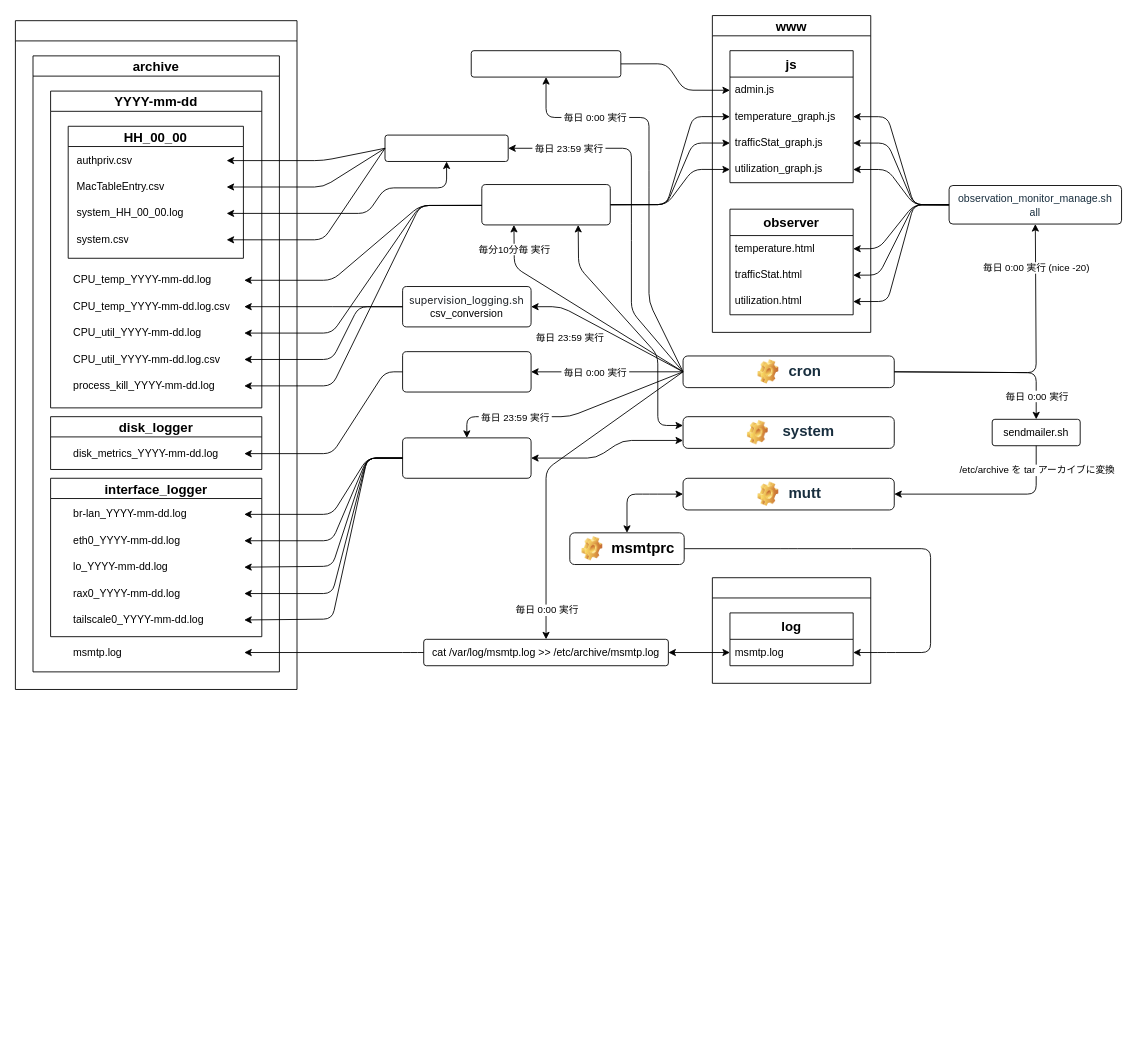
This 1137x1039 diagram has some shape labels left out. Here are the shapes that lost their labels. From the top down, the centre of each, then its label:
At point 545,63: "internal_website_manage.sh".
At point 446,147: "systemlog_convert.sh".
At point 545,204: "supervision_logging.sh cpu_logger".
At point 156,354: "etc".
At point 466,371: "supervision_logging.sh disk _logger".
At point 466,457: "supervision_logging.sh traffic_logger".
At point 791,630: "var".
